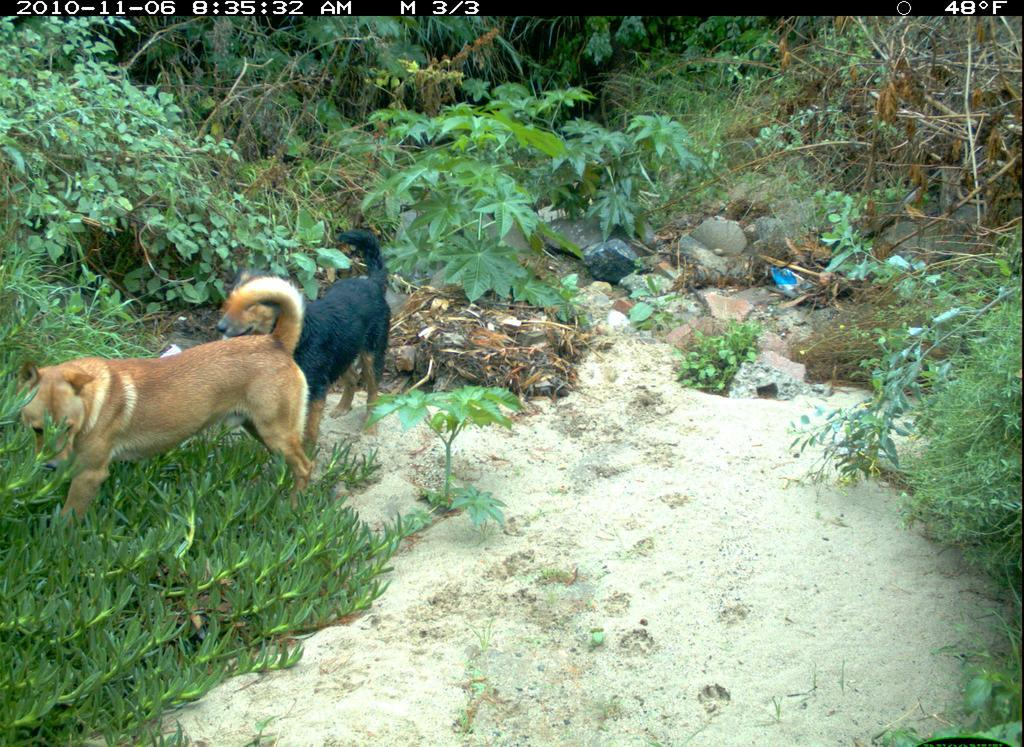dog: (17, 274, 316, 536), (218, 231, 395, 441)
